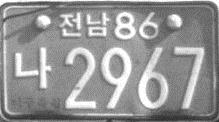2: (62, 45, 98, 111)
6: (135, 45, 169, 110), (138, 10, 159, 40)
7: (172, 44, 205, 111)
8: (113, 11, 136, 41)
9: (98, 46, 132, 111)
나: (13, 45, 51, 92)
전남_O: (58, 11, 110, 38)
